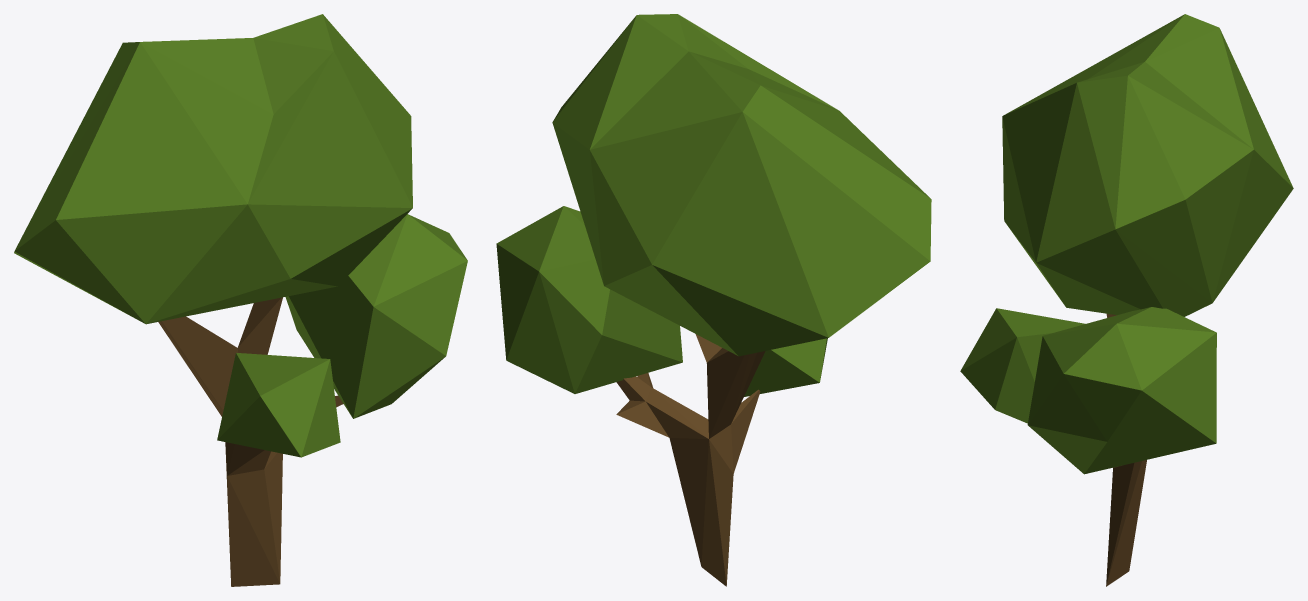
Rendered from temp-decid.tall-op0.2.gltf.
3 views of the same model, side by side, from view 1: azimuth 30°, elevation 25°; view 2: azimuth 150°, elevation 25°; view 3: azimuth 270°, elevation 25° (orthographic). The views are drawn at different scales.
Parts seen in each view (by area): view 1: Tree1_1; view 2: Tree1_1; view 3: Tree1_1.
Part boxes in pixels (box(x1,y1,x2,y2)): Tree1_1: box(14, 14, 467, 586); Tree1_1: box(496, 14, 931, 586); Tree1_1: box(960, 14, 1293, 586).
Bounding box in the file's own units: 6.04 × 7.31 × 4.1.
1 material, 1 textured.
